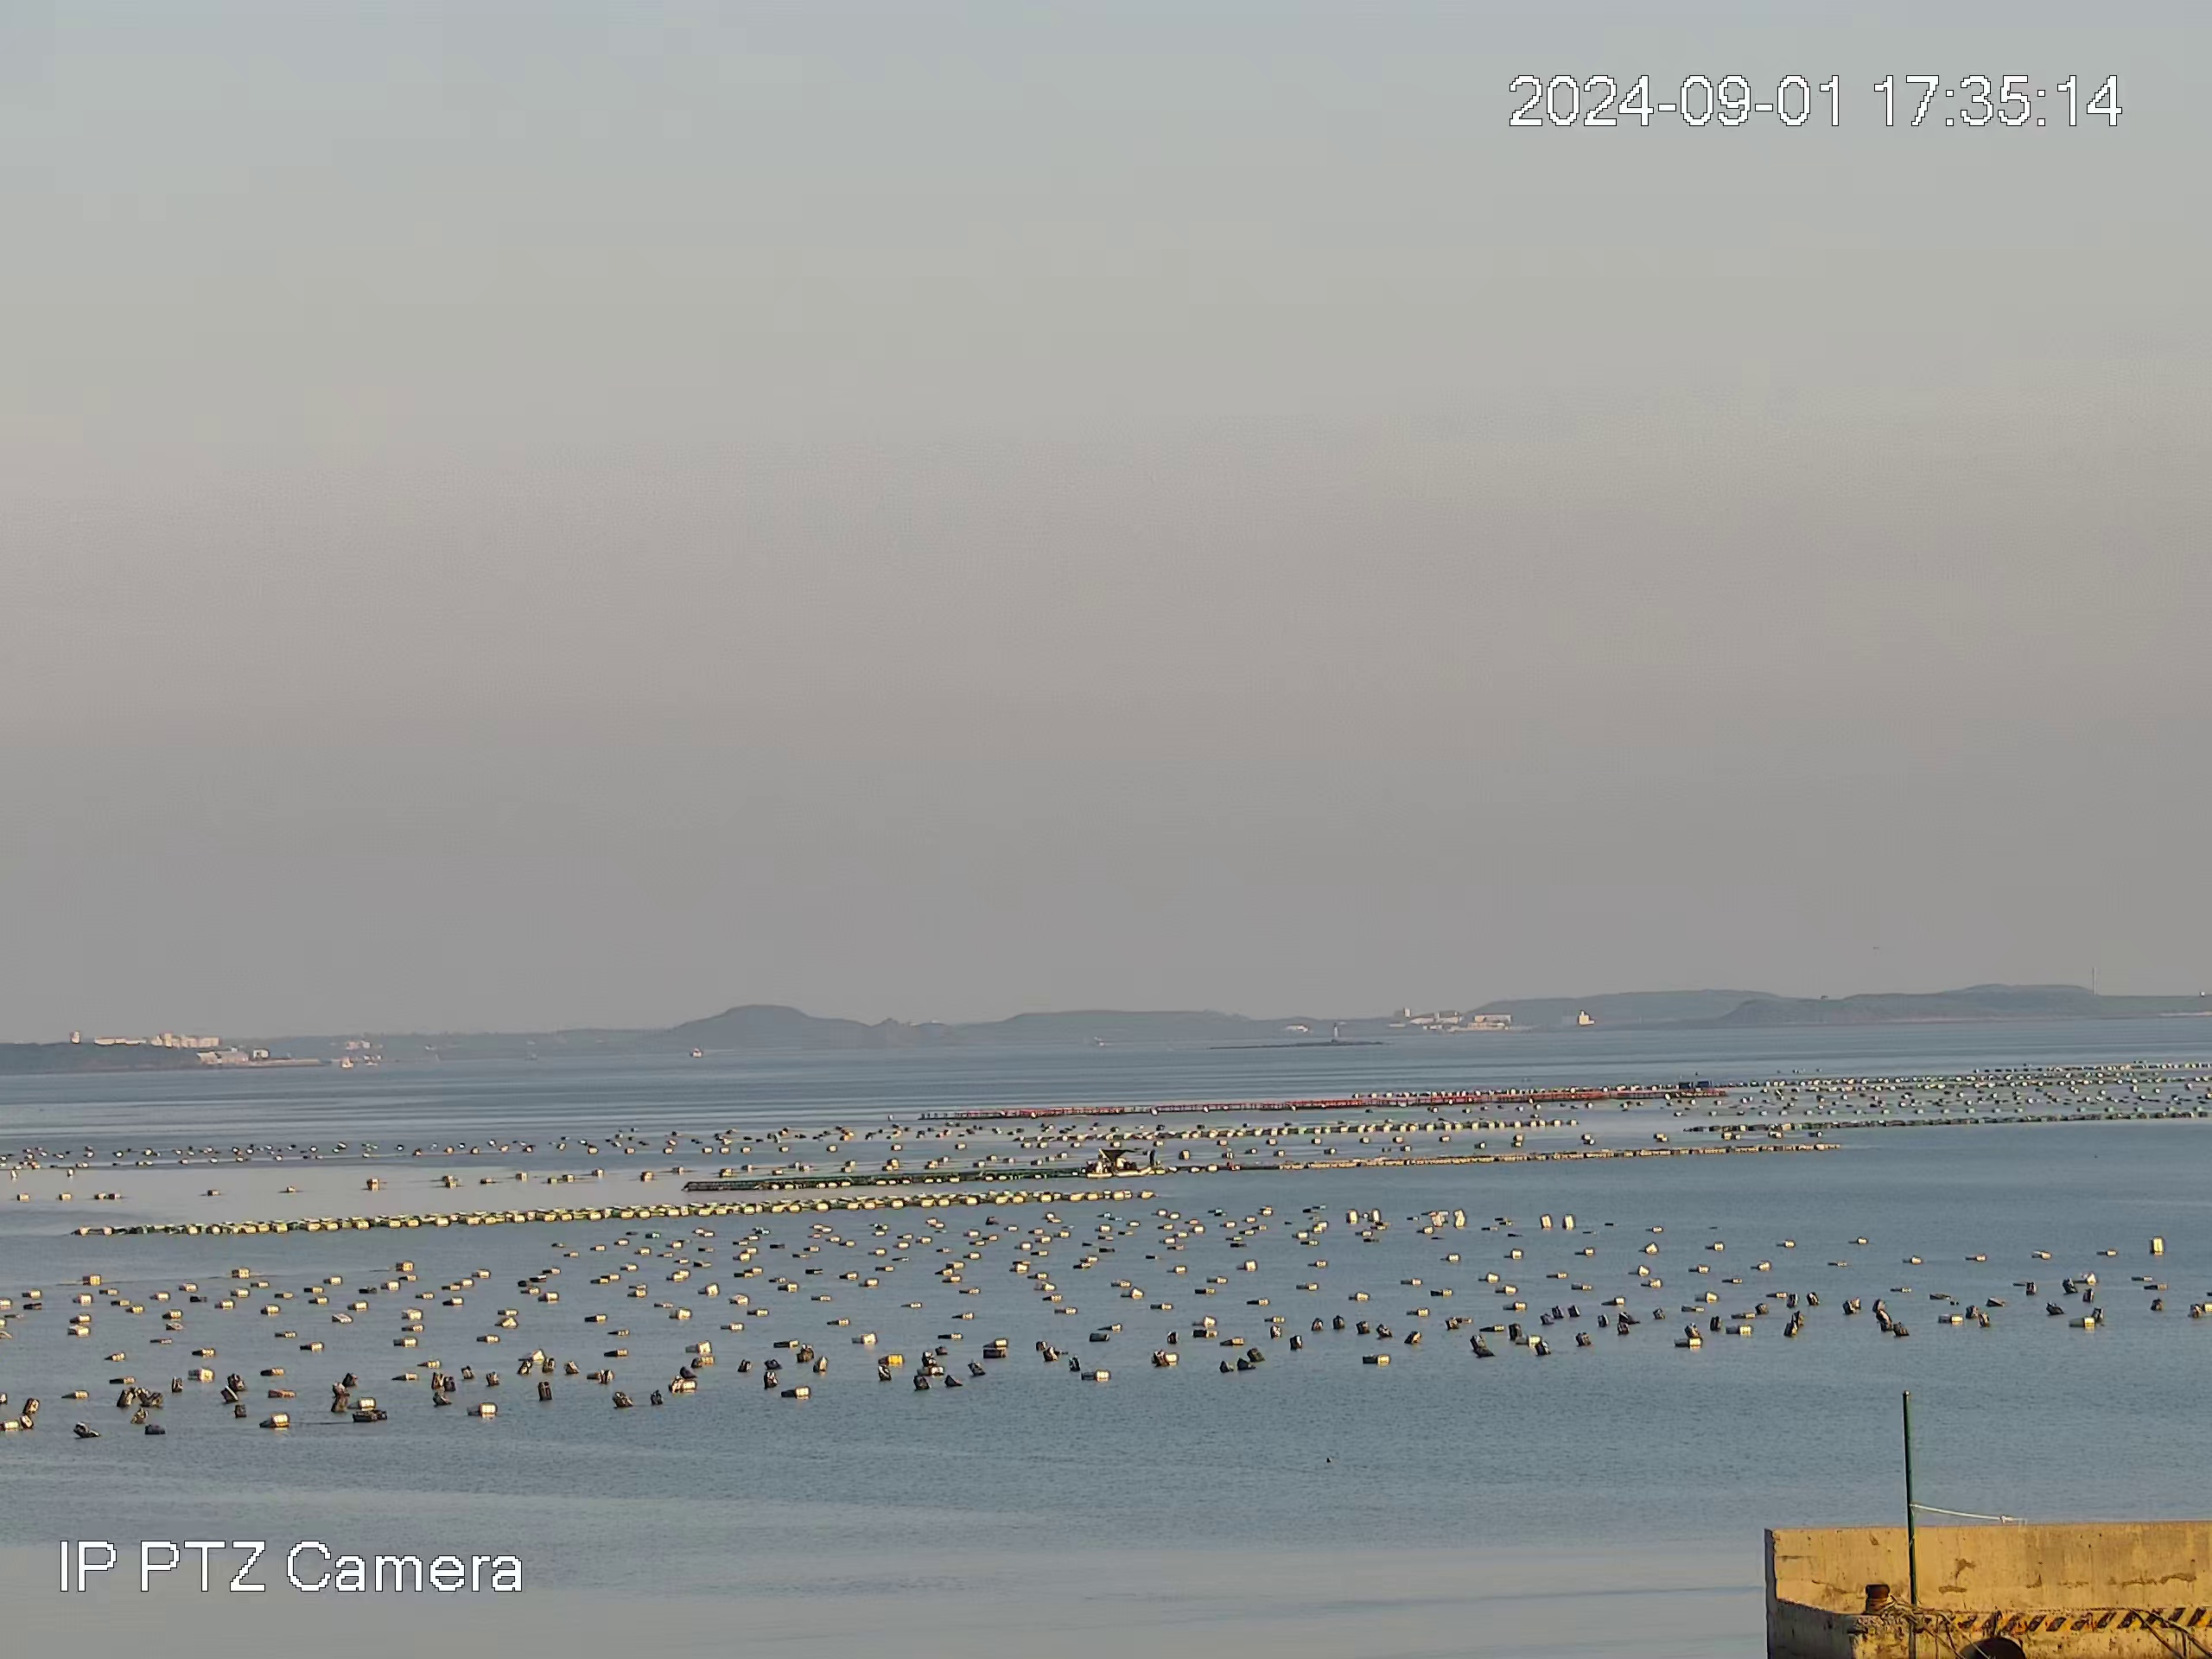boat: (1085, 1143, 1154, 1178)
